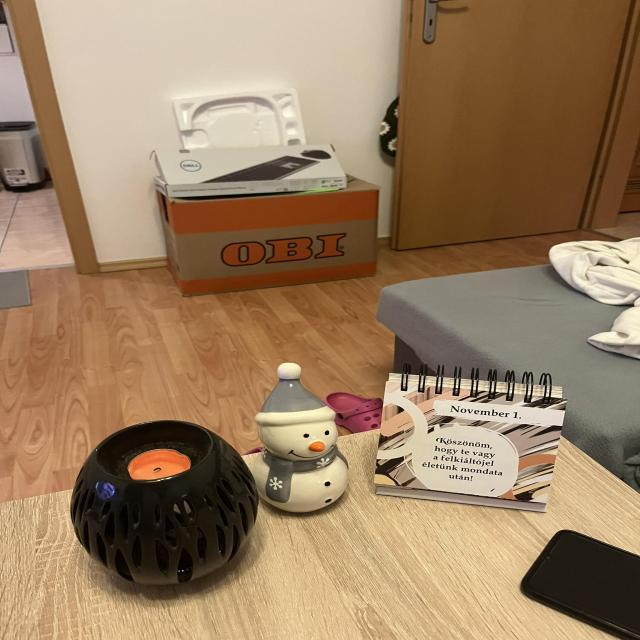calendar: (375, 364, 567, 511)
